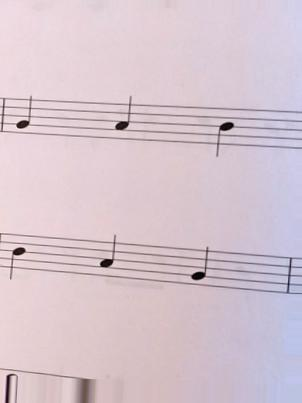A: (96, 230, 120, 286), (111, 93, 135, 145)
B: (213, 101, 239, 163), (7, 227, 30, 285)
G: (186, 242, 211, 295), (11, 90, 35, 143)
